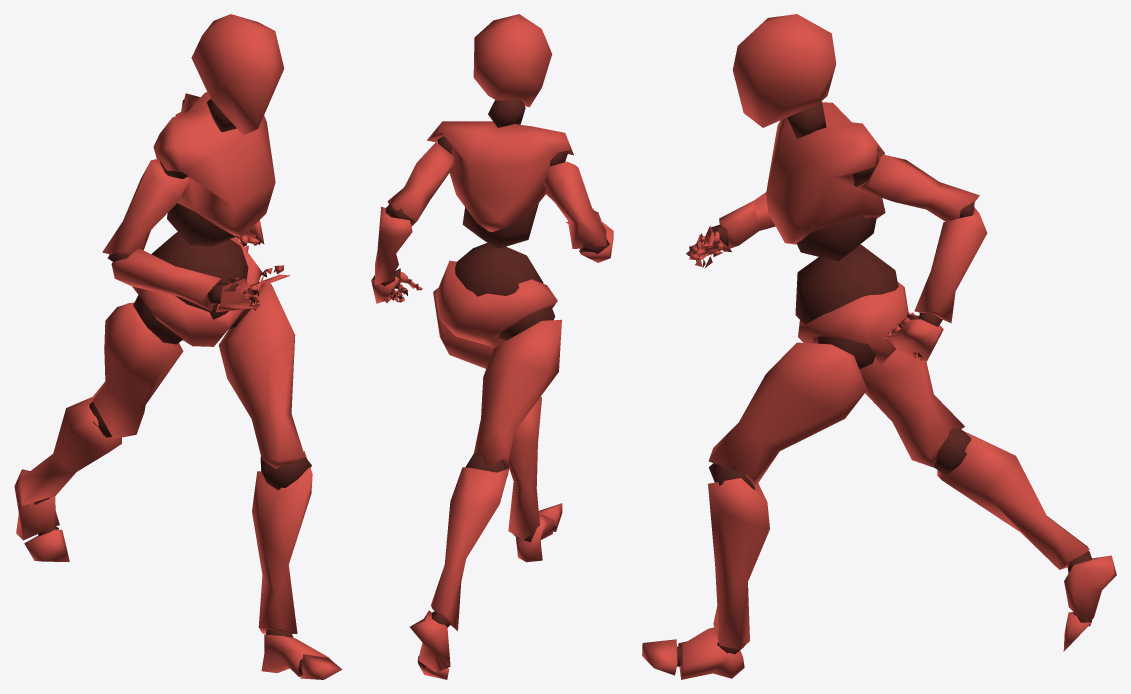
3 views of the same model, side by side, from view 1: azimuth 30°, elevation 25°; view 2: azimuth 150°, elevation 25°; view 3: azimuth 270°, elevation 25° (orthographic). The views are drawn at different scales.
Parts seen in each view (by area): view 1: Beta_Surface.001; view 2: Beta_Surface.001; view 3: Beta_Surface.001.
Part boxes in pixels (x1,y1,x2,y2): Beta_Surface.001: (14, 14, 341, 679); Beta_Surface.001: (371, 14, 613, 679); Beta_Surface.001: (642, 14, 1116, 679).
Bounding box in the file's own units: 5 × 14.65 × 9.63.
